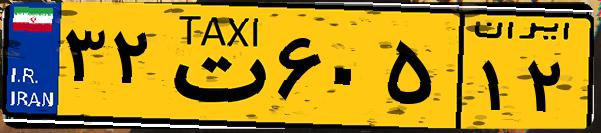0: (330, 28, 385, 110)
1: (475, 38, 525, 113)
2: (525, 38, 570, 115), (110, 28, 158, 98)
3: (57, 26, 110, 100)
5: (385, 28, 445, 110)
6: (270, 28, 330, 110)
ت: (158, 12, 270, 120)
